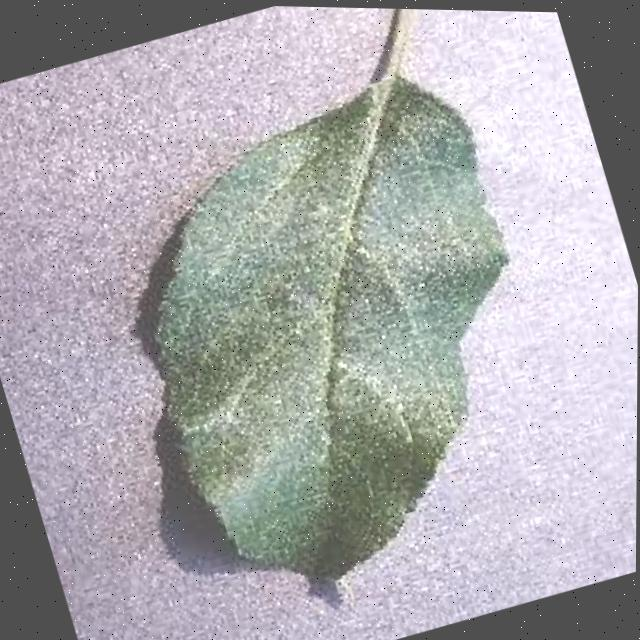healthy: (52, 8, 640, 640)
